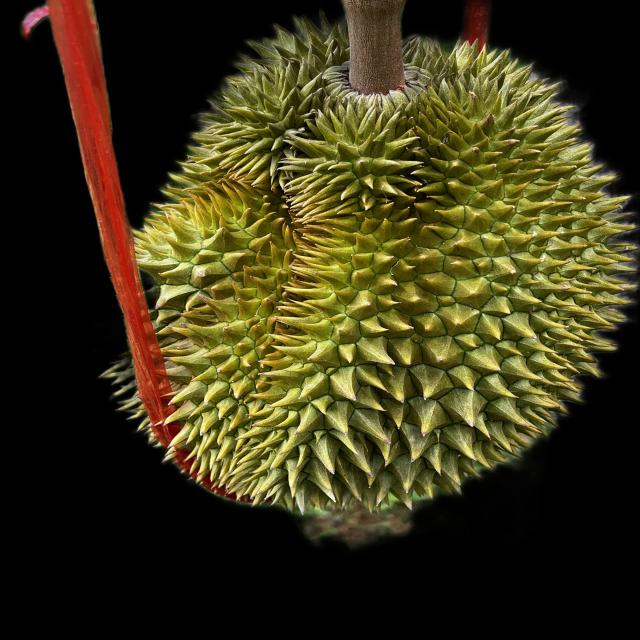immature: (127, 11, 640, 518)
